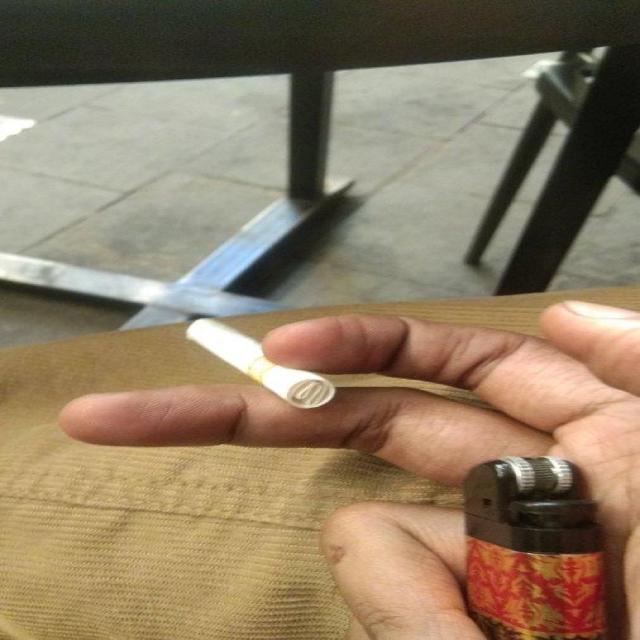rokok: (176, 313, 337, 409)
